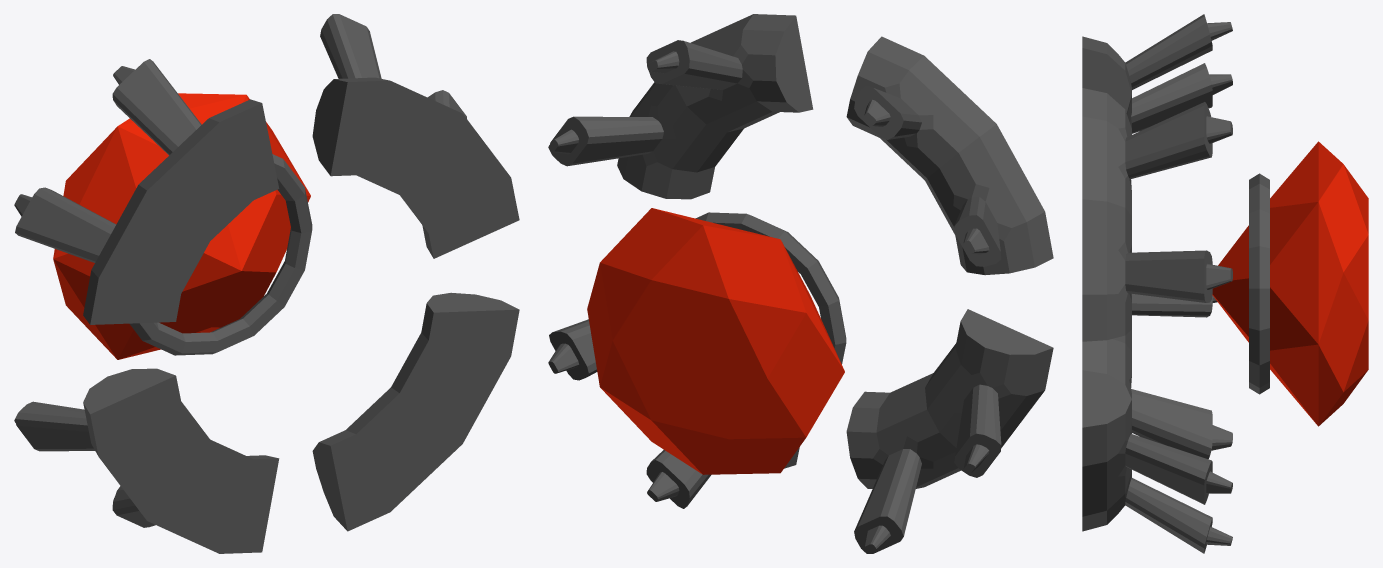
Rendered from CrystalGeneratorThingy.fbx.
3 renders of one model, left to right at view 1: azimuth 30°, elevation 25°; view 2: azimuth 150°, elevation 25°; view 3: azimuth 270°, elevation 25°, orthographic. The views are drawn at different scales.
Visible parts, largest first — view 1: Torus, Gem; view 2: Torus, Gem; view 3: Torus, Gem.
Part boxes in pixels (x1,y1,x2,y2): Torus: [14, 14, 519, 553]; Gem: [53, 93, 312, 359]; Torus: [548, 14, 1053, 553]; Gem: [587, 208, 846, 474]; Torus: [1082, 14, 1232, 553]; Gem: [1212, 141, 1368, 426].
Size of the model in its own units: 253 by 251 by 144.
